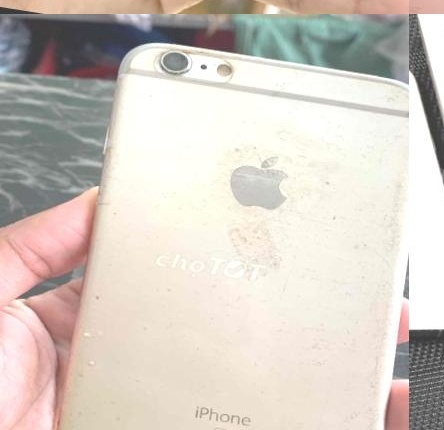scratch: (186, 98, 359, 300), (276, 297, 409, 430), (344, 77, 409, 286), (52, 282, 143, 417), (137, 36, 249, 100)
